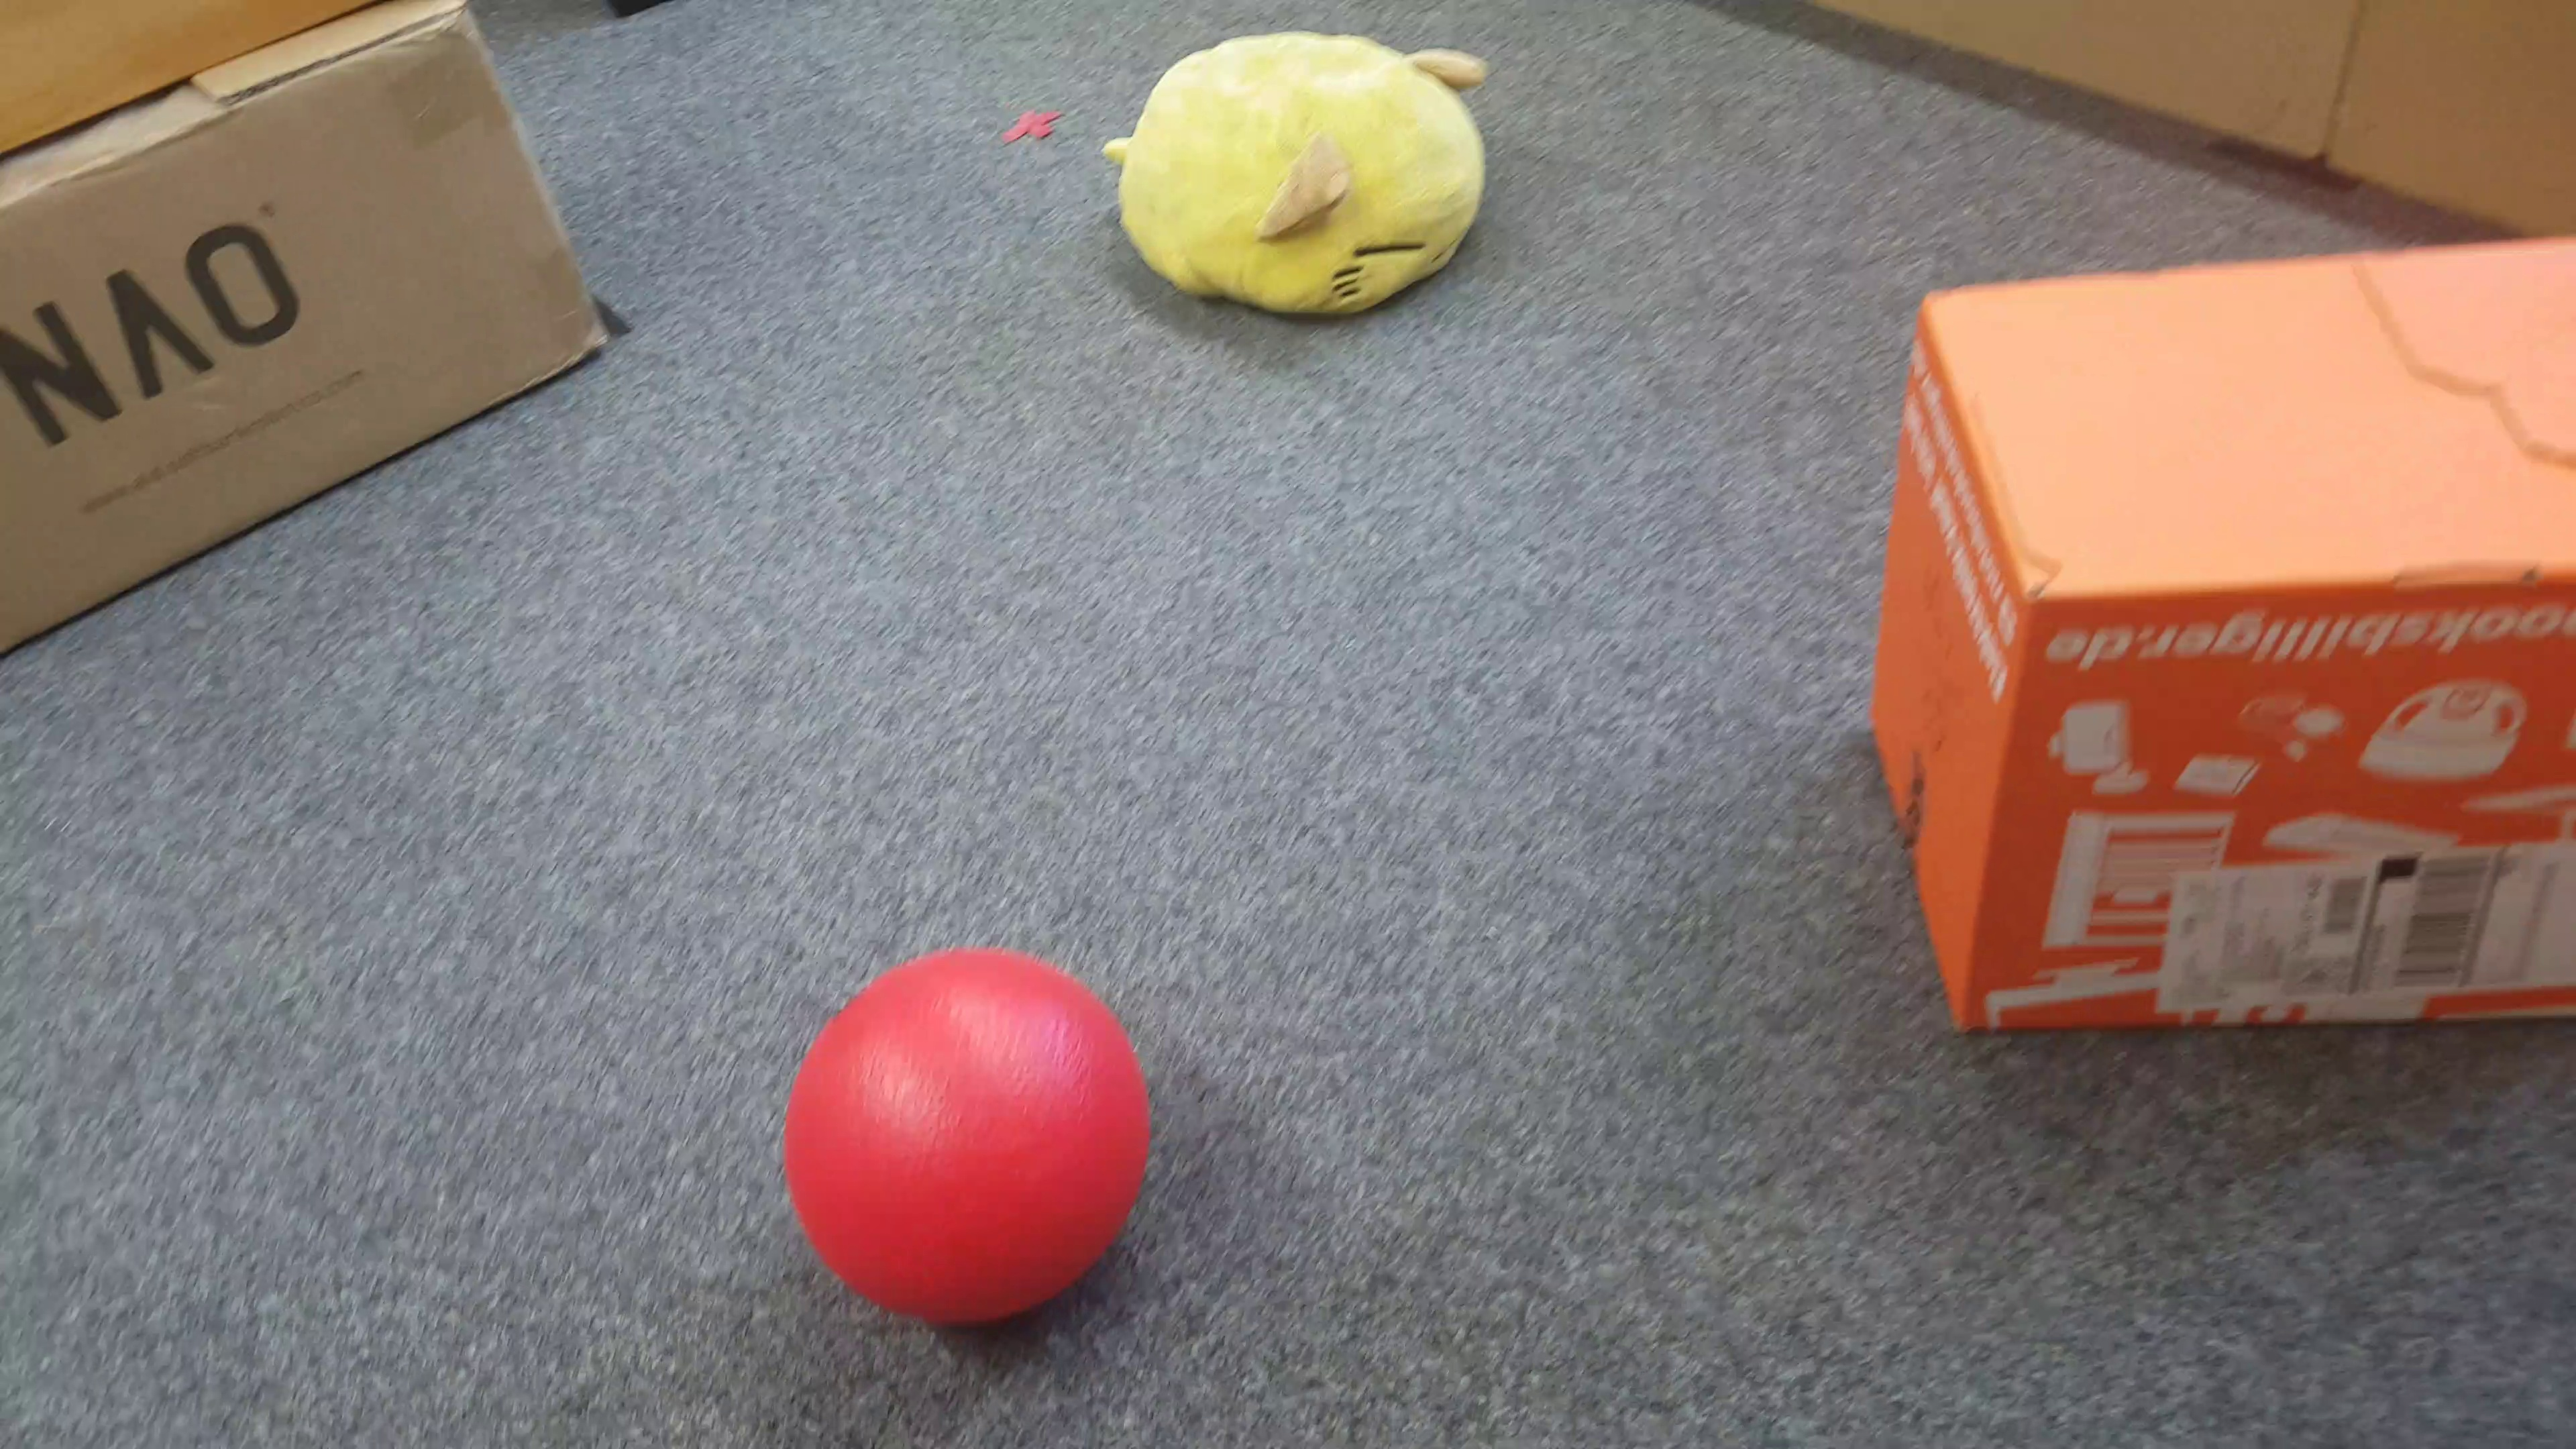grasp: (1108, 25, 1497, 324)
kick: (778, 943, 1157, 1322)
push: (1863, 235, 2576, 1035)
